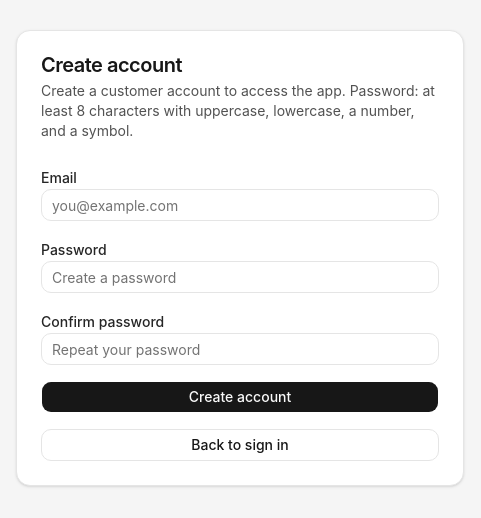
Test: SignUpPage › shows mismatch error when passwords differ
In the field labelled "Email": (240, 205) [41,189,439,221], type "a@b.com"
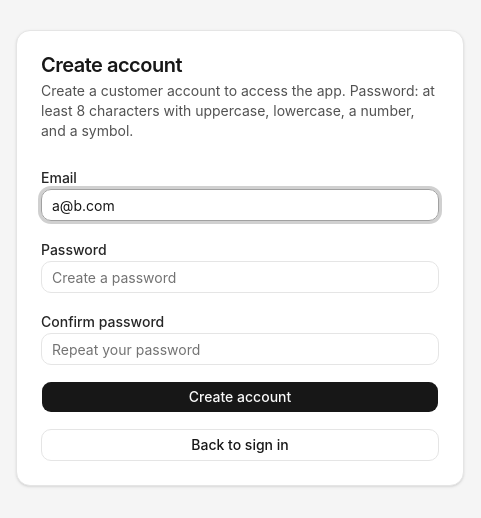
In the password field labelled "Password": (240, 277) [41,261,439,293], type "ValidPass1!"
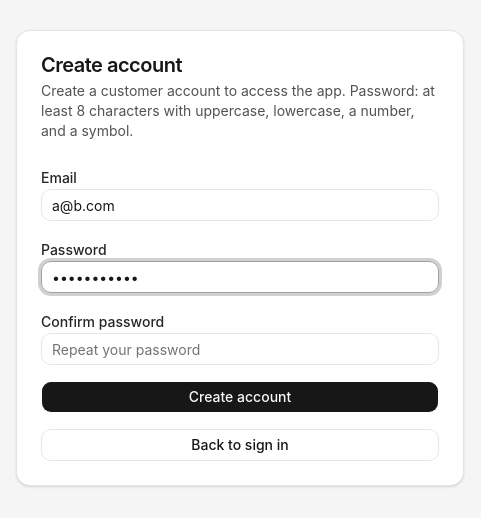
In the password field labelled "Confirm password": (240, 349) [41,333,439,365], type "OtherPass2!"
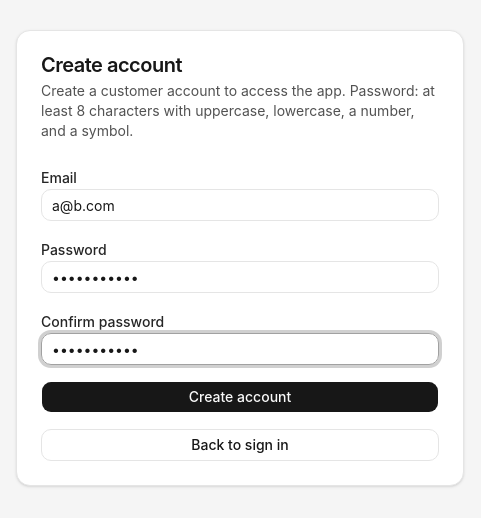
Click the button "Create account": click(240, 397) [41,381,439,413]
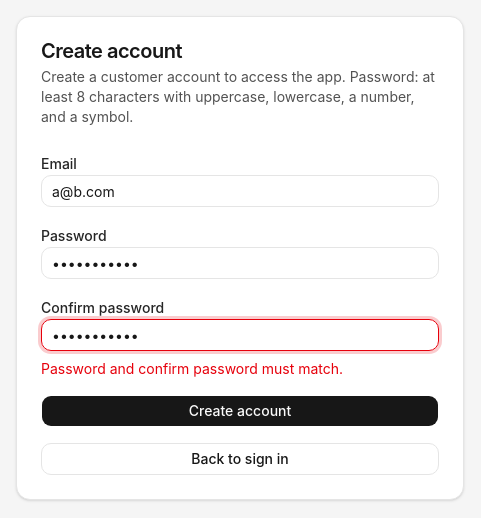
Check: the text "Password and confirm password must match." is shown, box [41,360,343,377]
